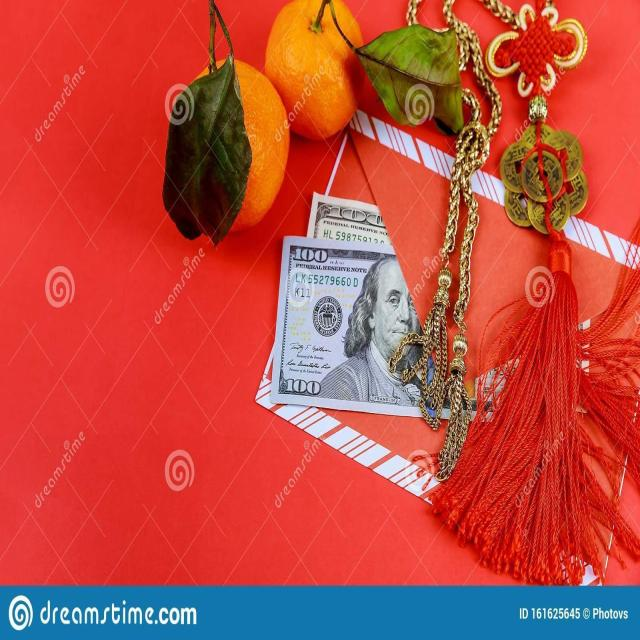100-Front: (265, 232, 592, 412)
